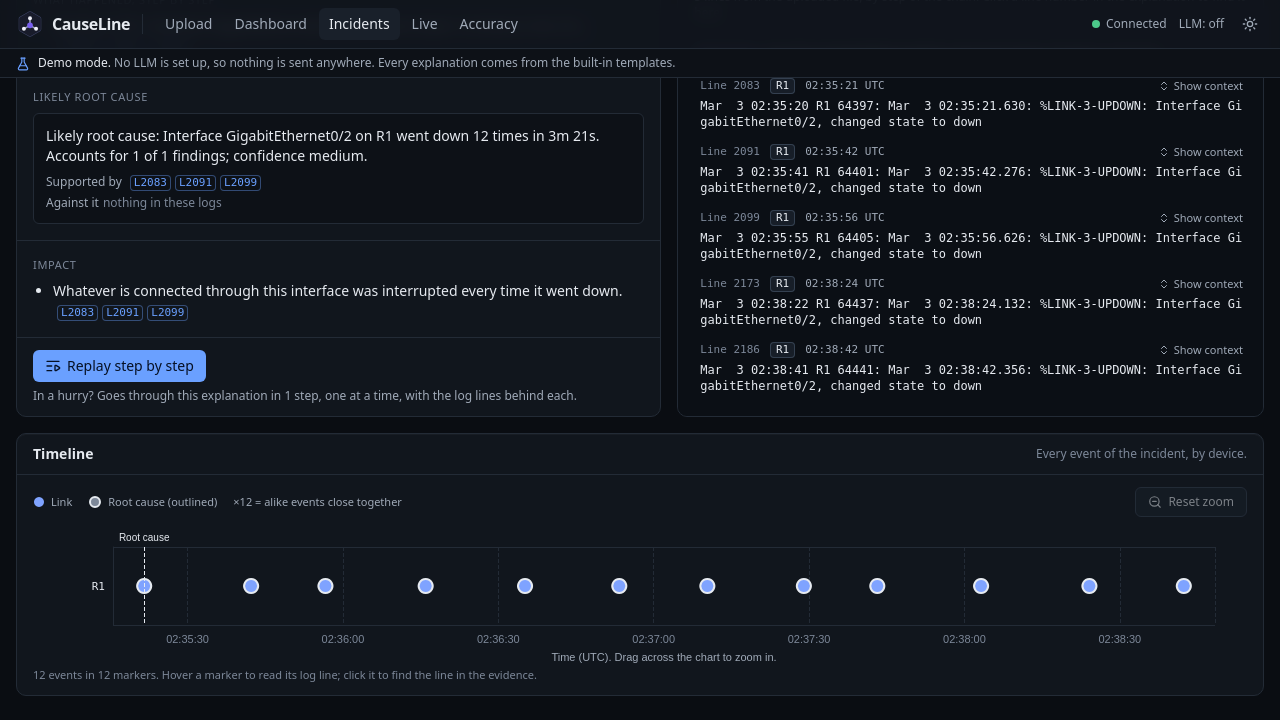
the replay on the incident page › scenario 1: one step, with nothing to play and nowhere to go
(page scrolled)
Click the button "Replay step by step" at (119,366), box [33,350,206,382]
(page scrolled)
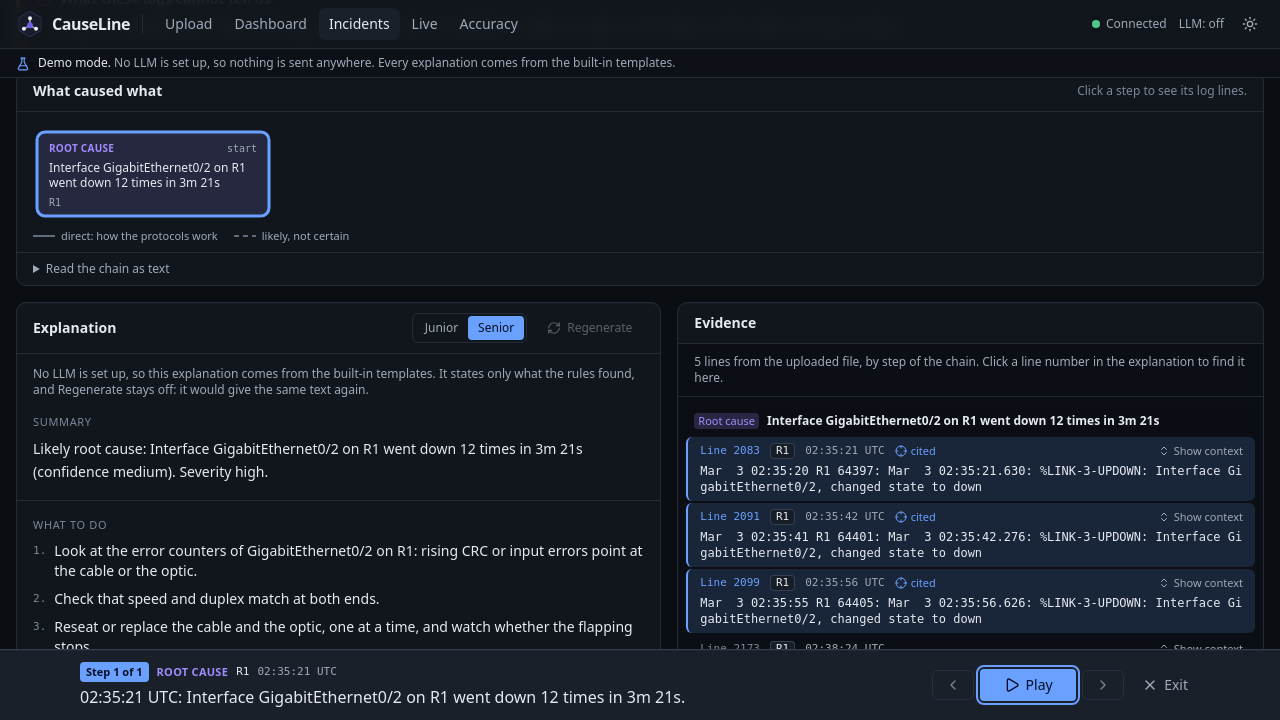
Expected: the button named "Back" is disabled, [932,670,974,700]
Result: the text "Step 1 of 1" is shown at [80,662,149,682]
Result: the button "Play" is shown at [980,669,1076,701]
